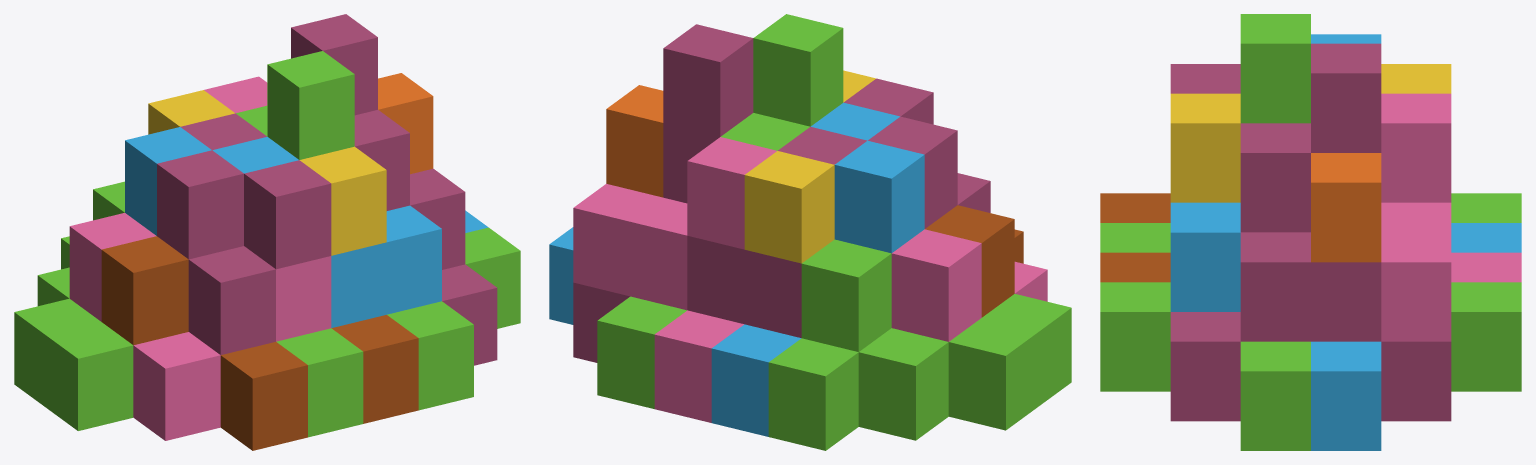
Rendered from DesertLedge.obj.
3 renders of one model, left to right at view 1: azimuth 30°, elevation 25°; view 2: azimuth 150°, elevation 25°; view 3: azimuth 270°, elevation 25°, orthographic. The views are drawn at different scales.
Parts seen in each view (by area): view 1: DesertLedge; view 2: DesertLedge; view 3: DesertLedge.
Part boxes in pixels (x1,y1,x2,y2): DesertLedge: [14, 14, 520, 450]; DesertLedge: [549, 14, 1071, 450]; DesertLedge: [1100, 14, 1521, 450].
Size of the model in its own units: 16 by 10 by 12.
